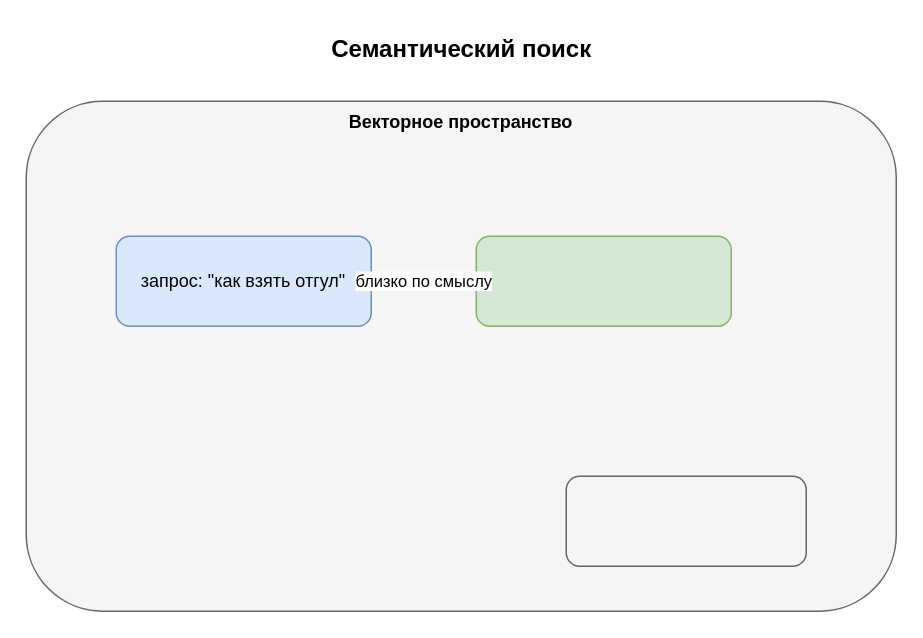
The diagram is 923 pixels wide and 638 high, and some of its shapes have lost their labels. Each missing label, with the centre of its shape:
док: график уборки: (x=685, y=520)
док: оформление отпуска: (x=603, y=280)
